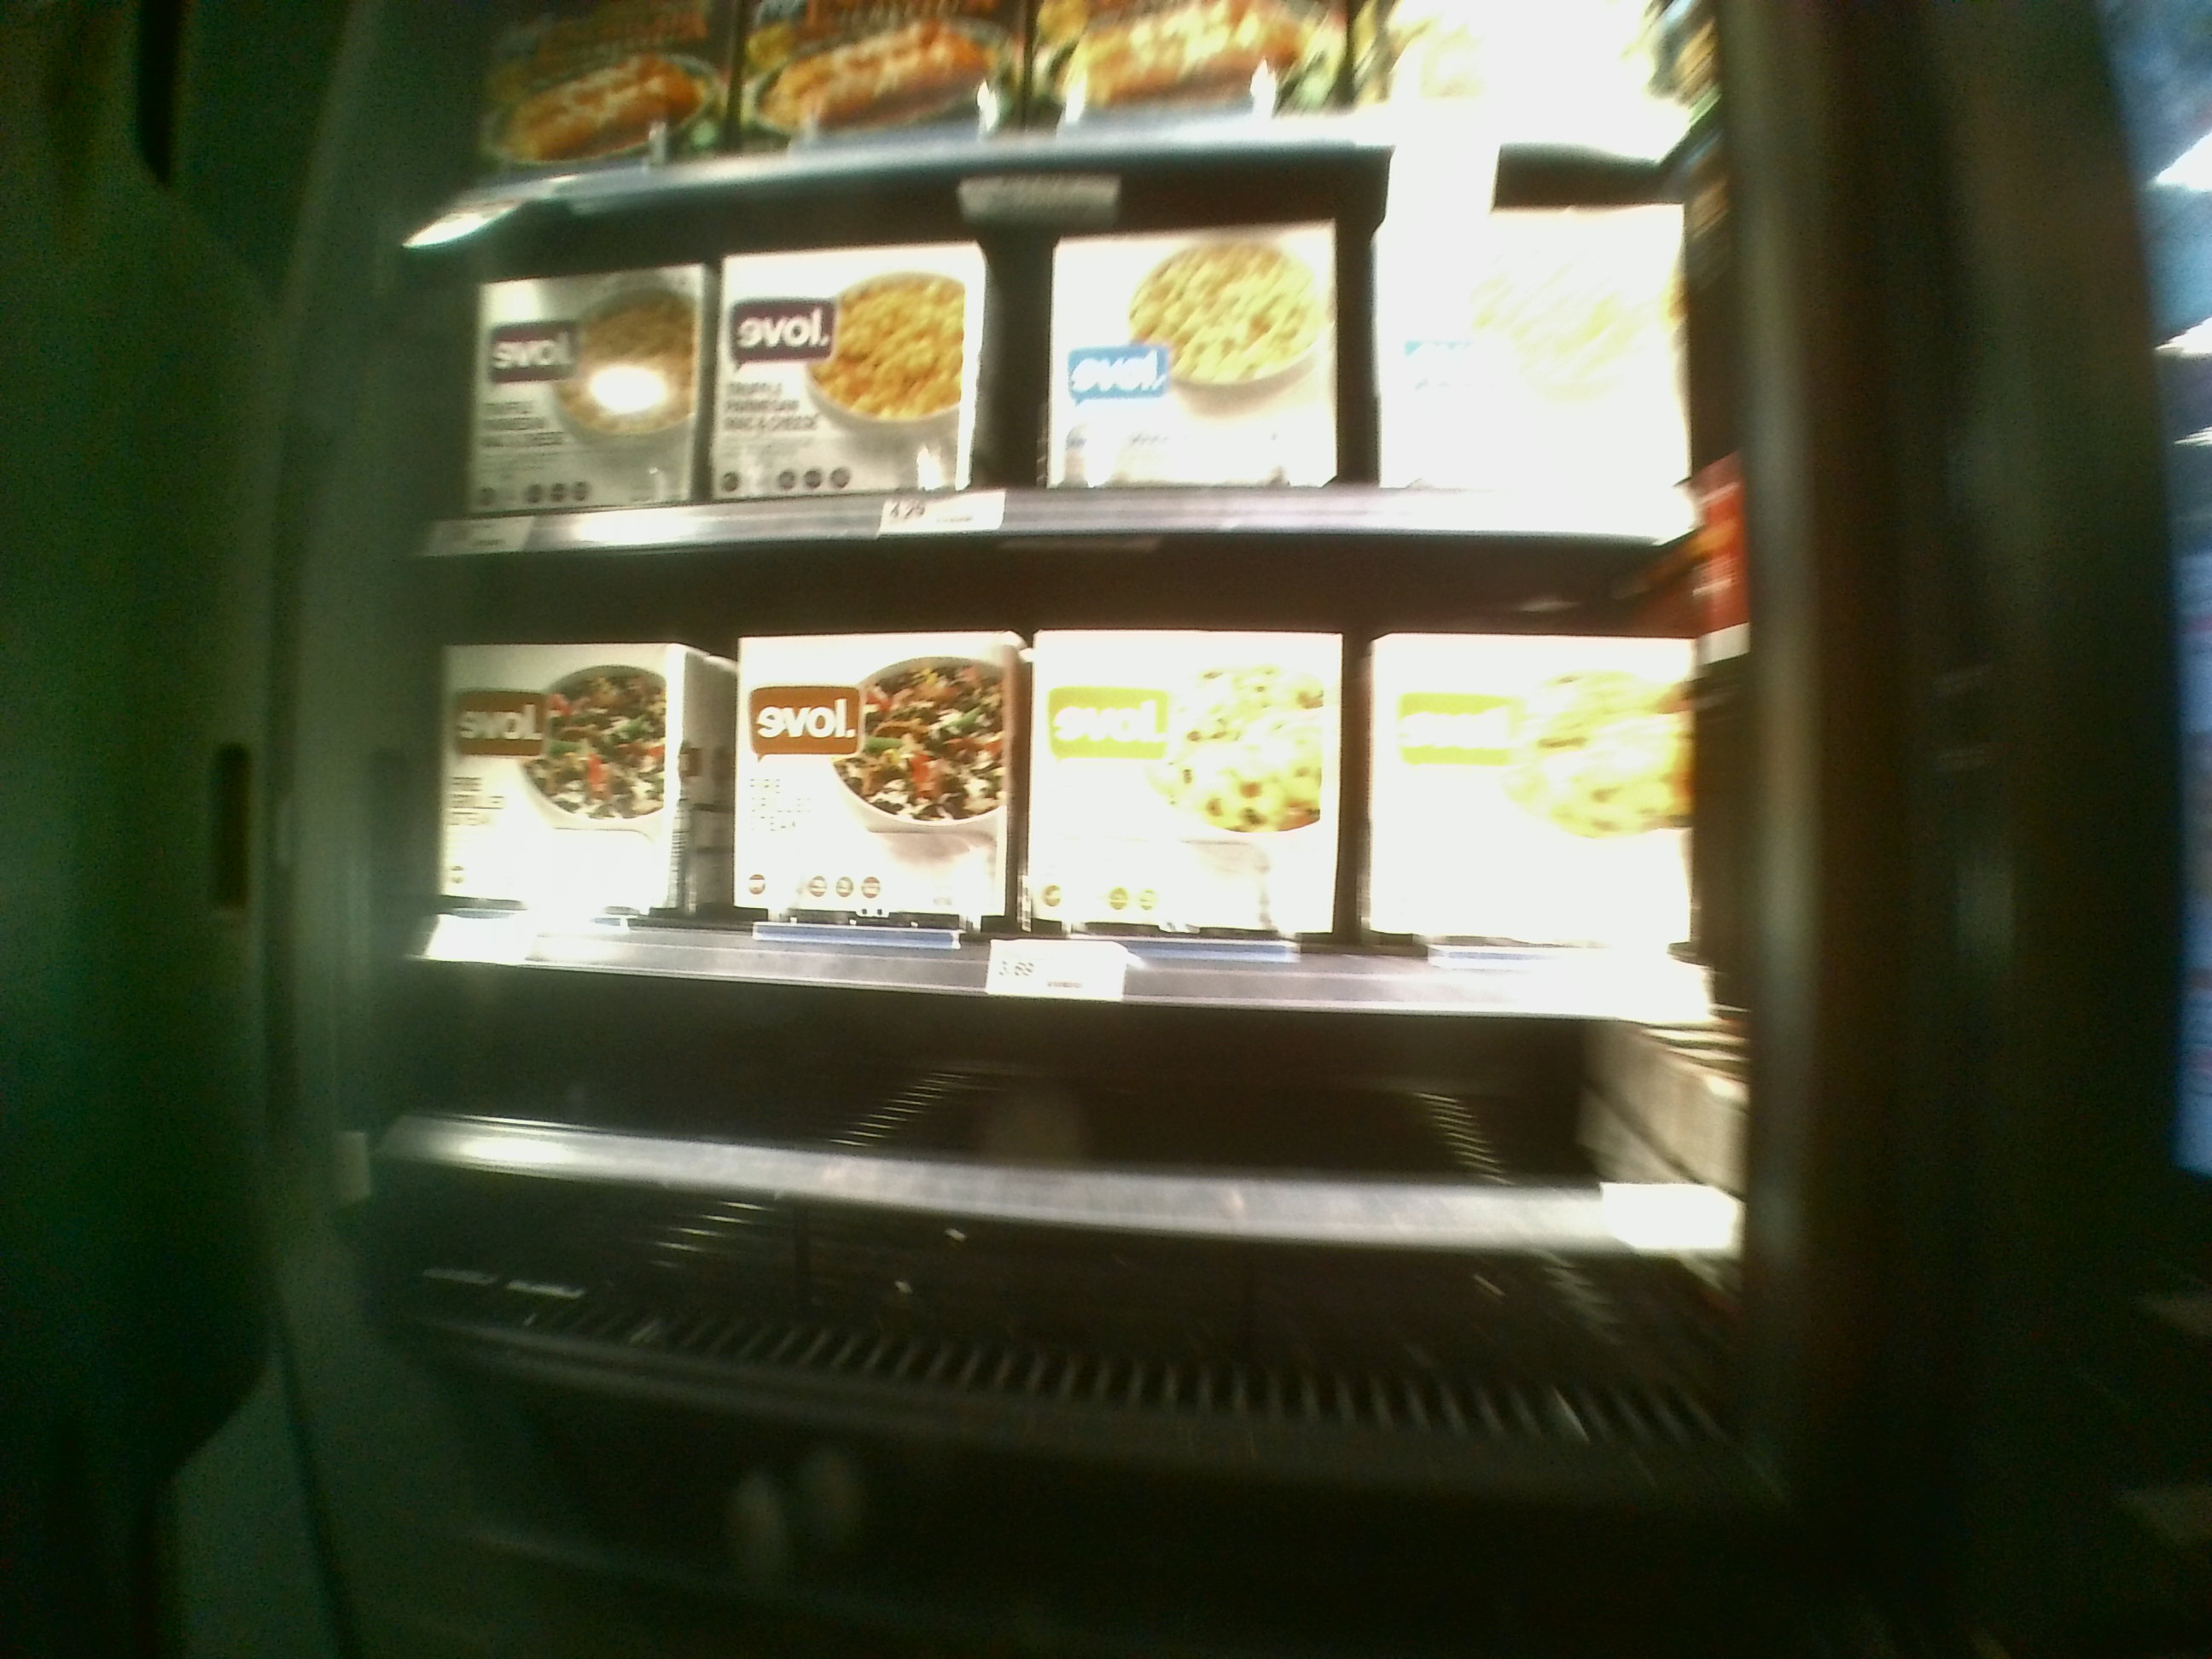shelf: (423, 572, 1724, 1014), (444, 1014, 1726, 1438), (434, 164, 1728, 566)
